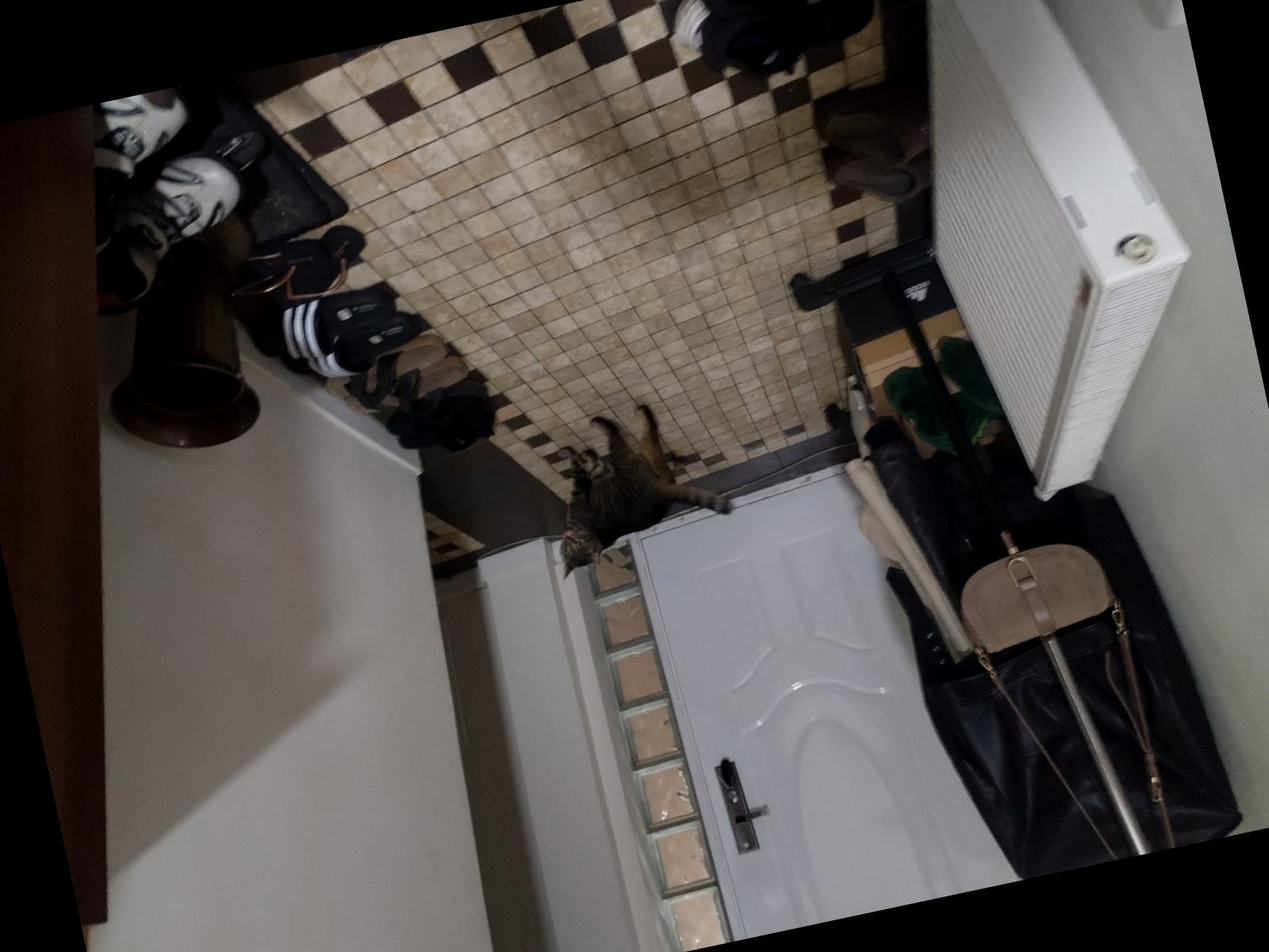macka: (533, 390, 743, 580)
